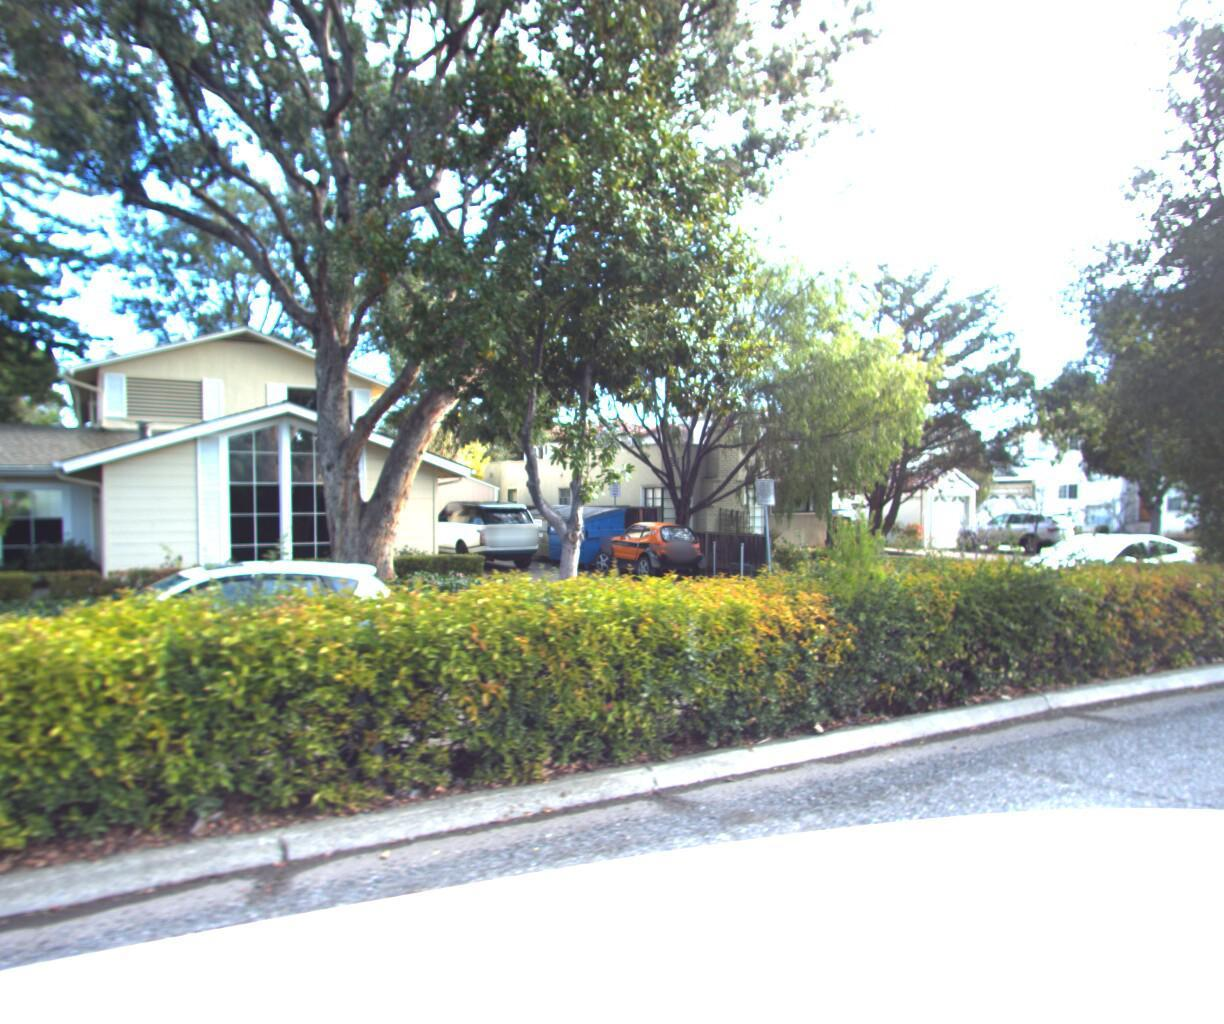car: (0, 542, 444, 762), (987, 519, 1214, 619), (415, 490, 552, 570), (584, 510, 714, 580), (948, 500, 1083, 549), (771, 496, 871, 539)
